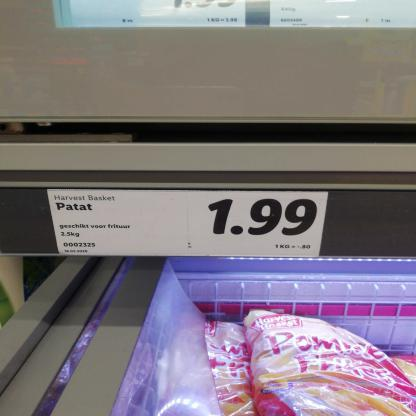prtg: (48, 191, 329, 259)
